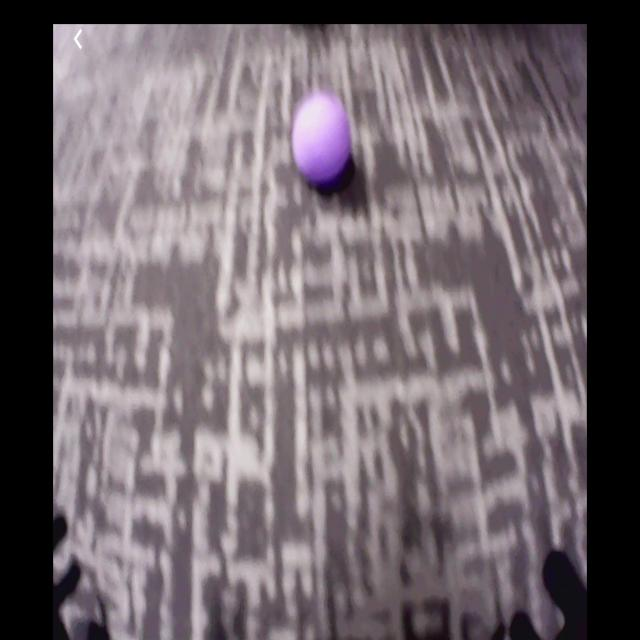ball: (293, 97, 348, 181)
